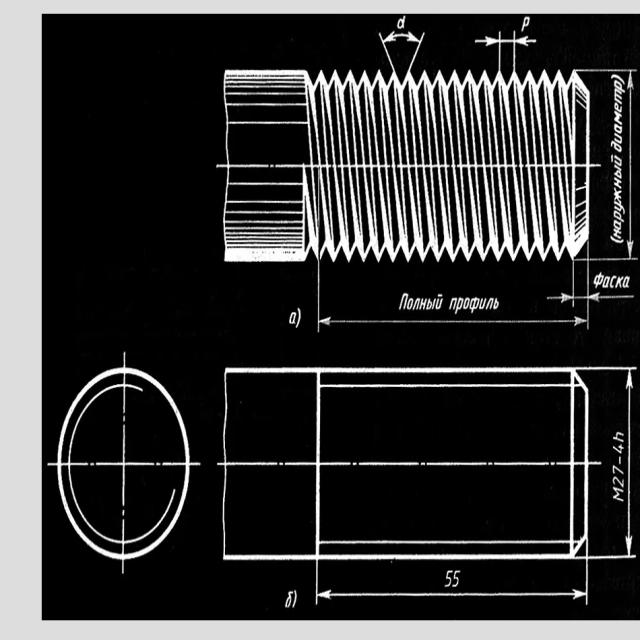marking_line: (316, 260, 589, 332), (315, 561, 588, 605), (589, 365, 639, 559), (591, 66, 636, 257), (475, 34, 537, 70), (586, 261, 638, 299), (546, 261, 575, 307)
numeric: (284, 590, 298, 609), (290, 308, 302, 329), (611, 487, 625, 503), (520, 16, 533, 33), (451, 569, 462, 589), (612, 464, 626, 477), (611, 430, 625, 443), (444, 570, 452, 591), (612, 478, 625, 488), (395, 17, 406, 28), (612, 445, 624, 454)
special_symbol: (374, 19, 428, 72)
